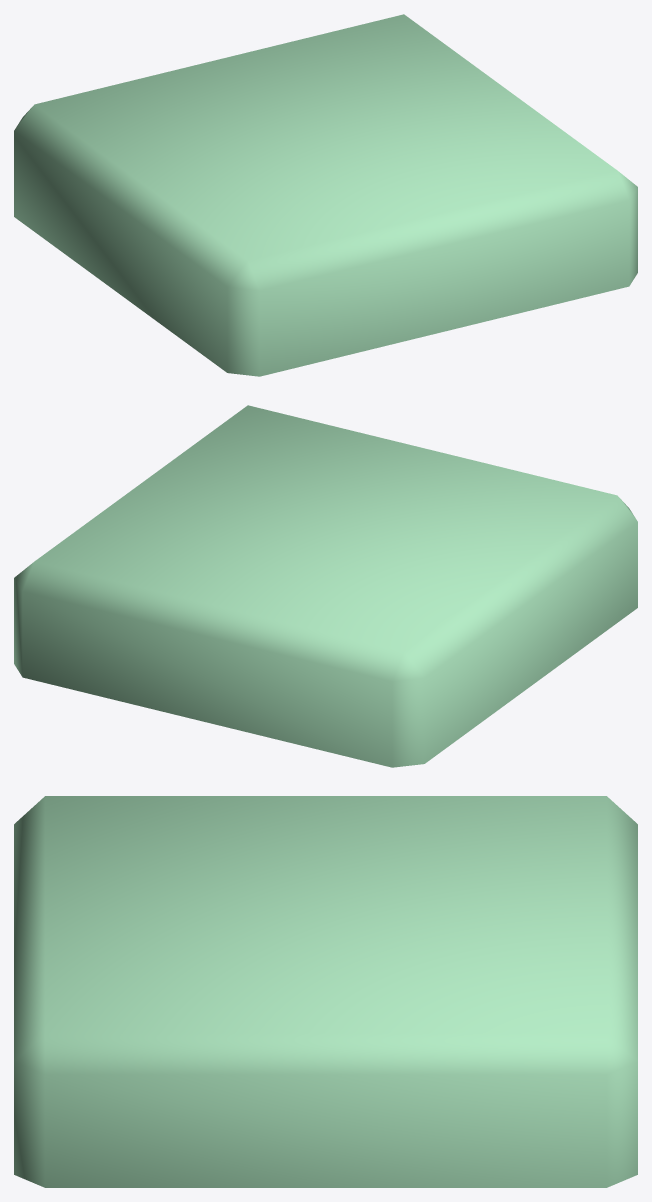
The model's file is TilesNew2.fbx.
3 renders of one model, top to bottom at view 1: azimuth 30°, elevation 25°; view 2: azimuth 150°, elevation 25°; view 3: azimuth 270°, elevation 25°, orthographic. The views are drawn at different scales.
Visible parts, largest first — view 1: TileNew2; view 2: TileNew2; view 3: TileNew2.
Boxes of the visible parts, box(x1,y1,x2,y2) form: TileNew2: box(14, 14, 637, 376); TileNew2: box(14, 405, 637, 767); TileNew2: box(14, 796, 637, 1187).
Size of the model in its own units: 200 by 50 by 200.
